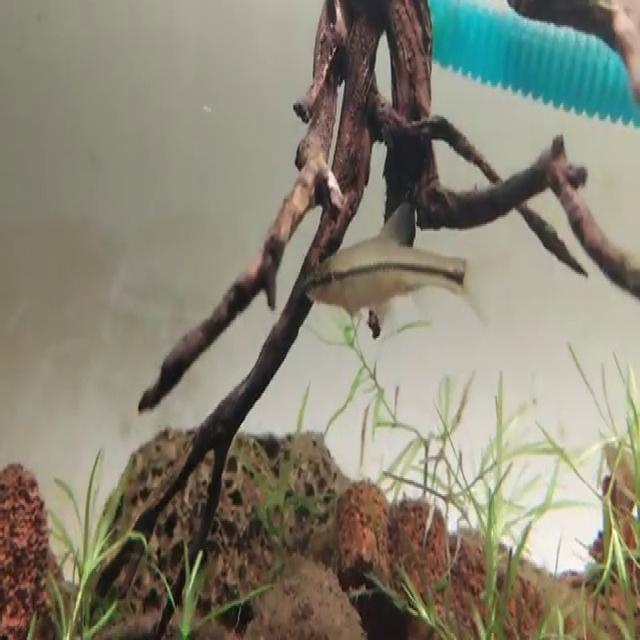Cakil Baligi: (300, 190, 490, 334)
